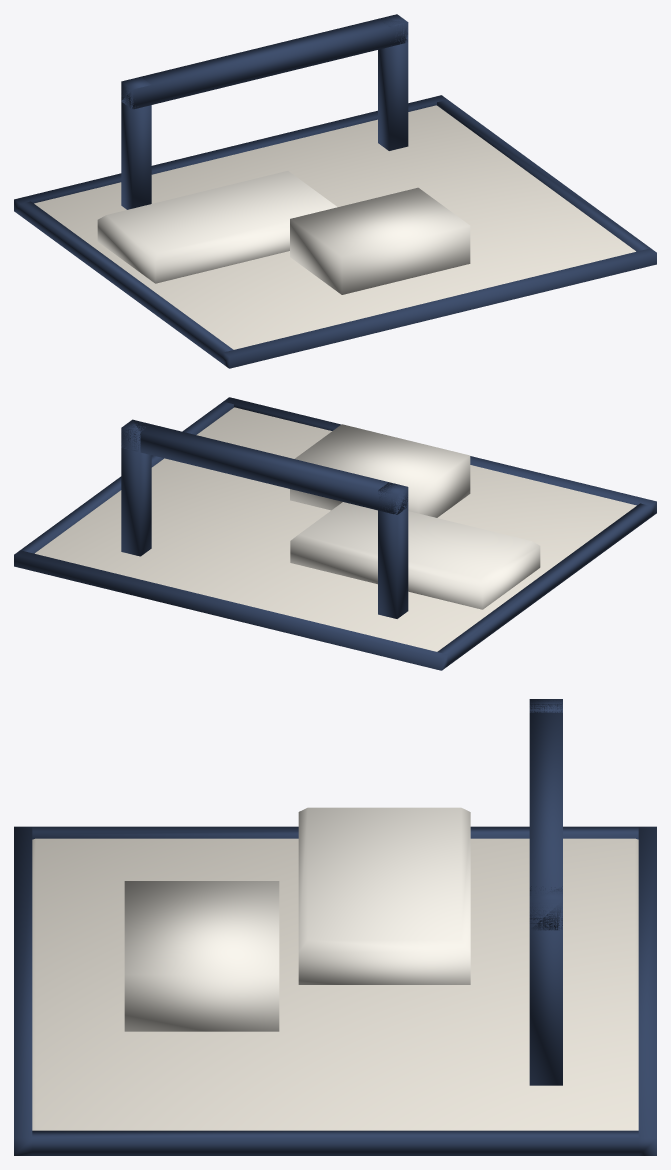
The model's file is subestacao-pequena.glb.
The picture shows the model from 3 angles, top to bottom: view 1: azimuth 30°, elevation 25°; view 2: azimuth 150°, elevation 25°; view 3: azimuth 270°, elevation 25°; orthographic projection. The views are drawn at different scales.
Parts seen in each view (by area): view 1: subestacao-pequena; view 2: subestacao-pequena; view 3: subestacao-pequena.
Boxes of the visible parts, left/top/right/bottom form: subestacao-pequena: left=14, top=14, right=656, bottom=368; subestacao-pequena: left=14, top=397, right=656, bottom=670; subestacao-pequena: left=14, top=699, right=656, bottom=1155.
Bounding box in the file's own units: 40 × 12 × 34.88.
